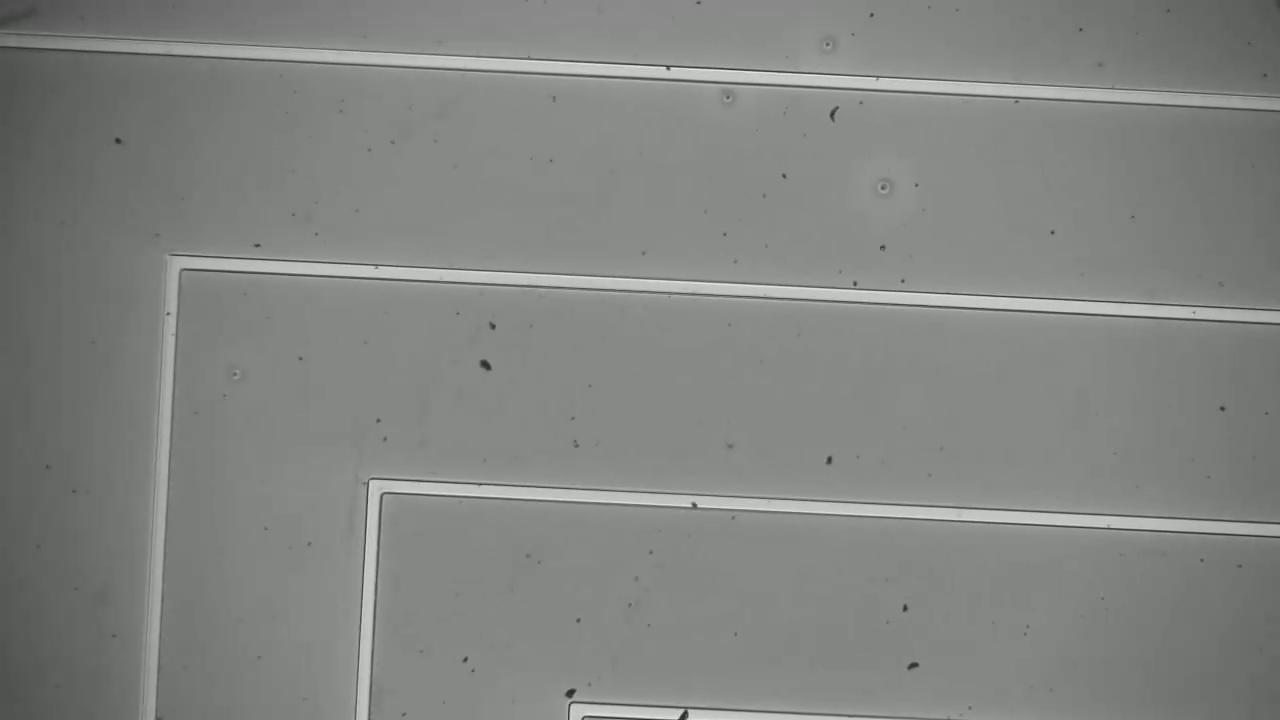stains_enbedded: (671, 699, 698, 720)
